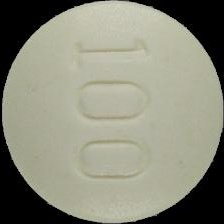35356-746: (0, 0, 224, 224)
